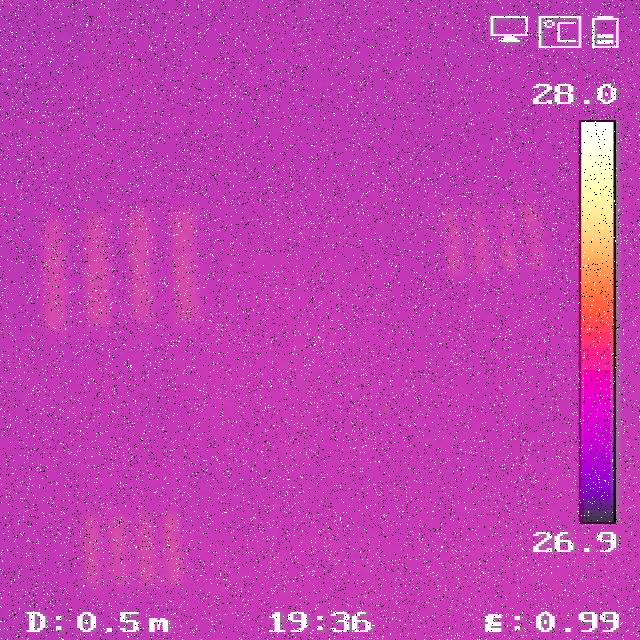Distinguishable 4-bar target: (29, 205, 207, 334)
threshold 4-bar target: (438, 195, 550, 271), (82, 510, 190, 586)
